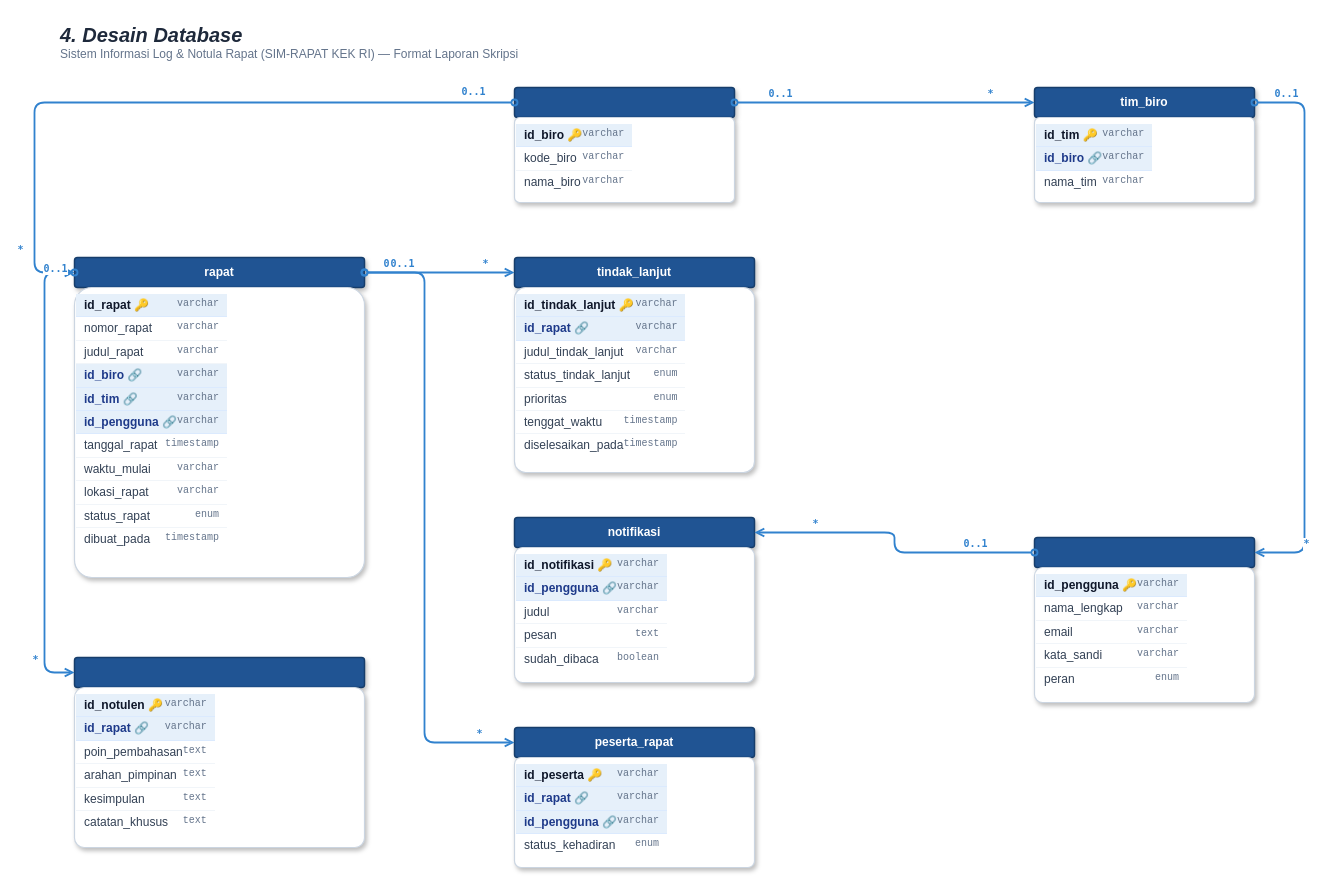
Some shapes in this 1332 by 892 pixel diagram are drawn without their labels. Each missing label, with the centre of its shape:
"biro" goes at point 625,103.
"notulen_rapat" goes at point 220,673.
"pengguna" goes at point 1145,553.
